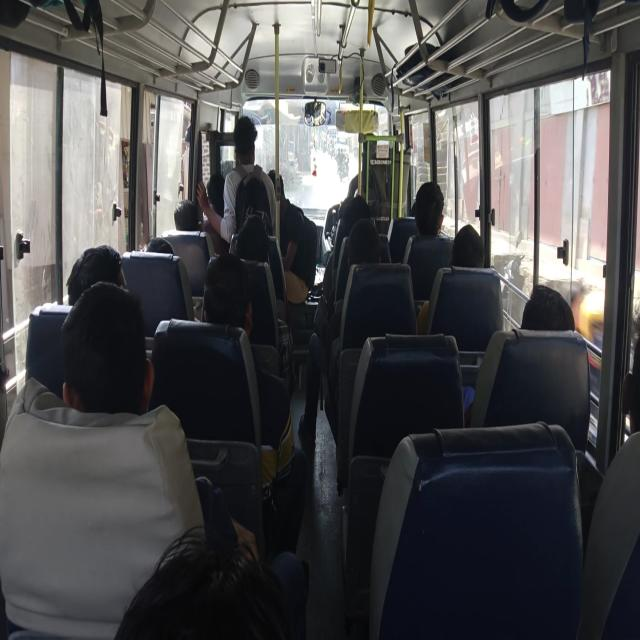person: (111, 527, 289, 638), (578, 323, 640, 632), (479, 283, 578, 442), (59, 283, 149, 418), (212, 115, 276, 249), (420, 222, 489, 339), (403, 180, 456, 302), (268, 171, 312, 303), (140, 233, 195, 327), (66, 244, 126, 307), (521, 284, 576, 333), (331, 188, 380, 239), (347, 215, 382, 269), (412, 180, 444, 237), (450, 222, 486, 269), (205, 172, 226, 218), (173, 198, 199, 232), (144, 237, 176, 256)
